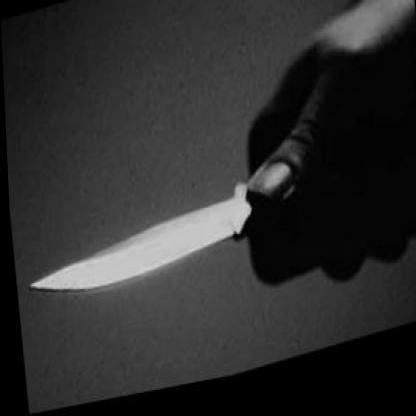knife: (14, 156, 318, 318)
